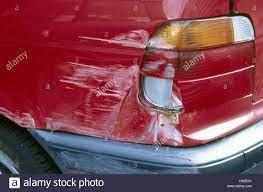Taillight-Damage: (127, 22, 207, 118)
quaterpanel-dent: (0, 0, 133, 141)
